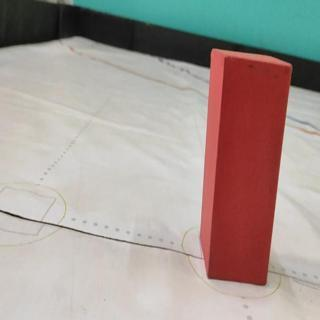redbox: (199, 50, 292, 283)
